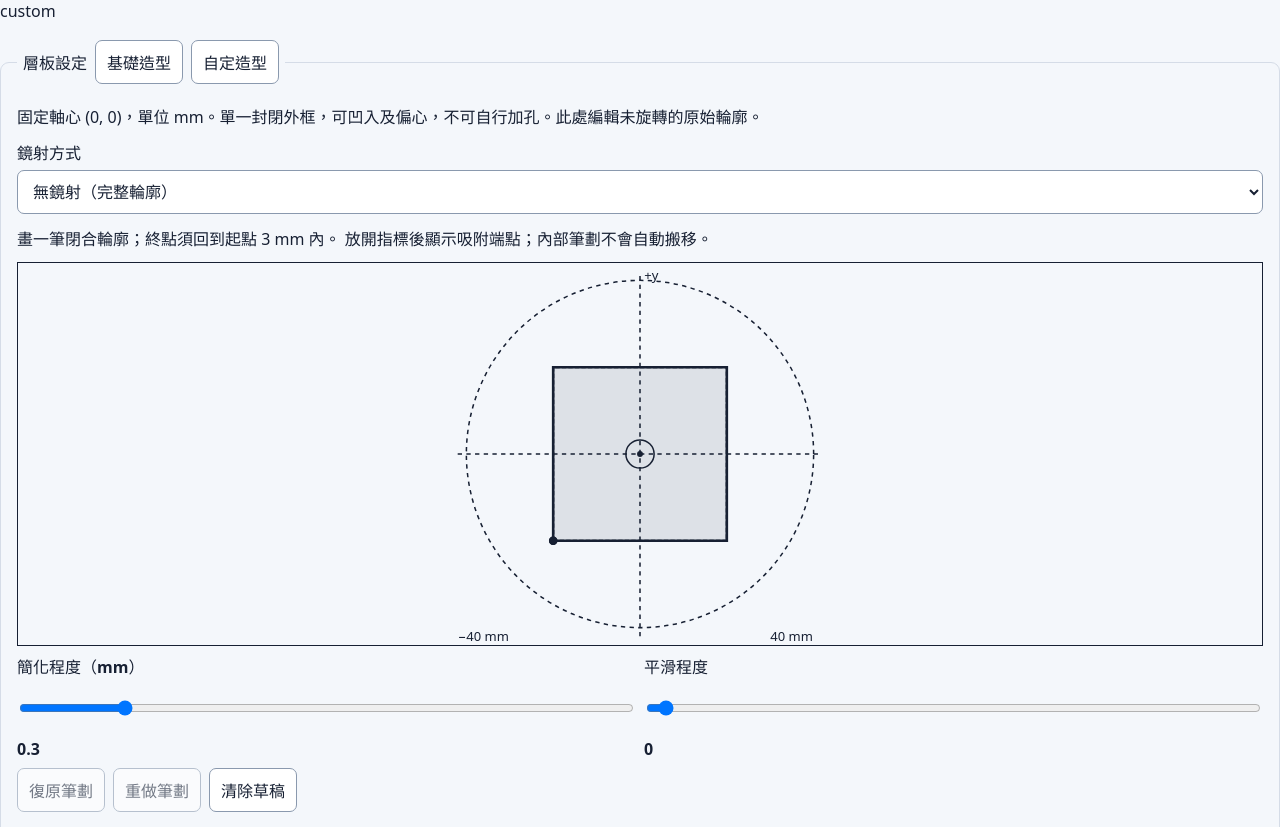
Test case: 輪廓編輯器 › 基礎草稿可保存及明確套用，原自定草稿仍可取回
This screenshot has width=1280, height=827.
Click the button "基礎造型".
click(139, 62)  # box [95,40,183,84]
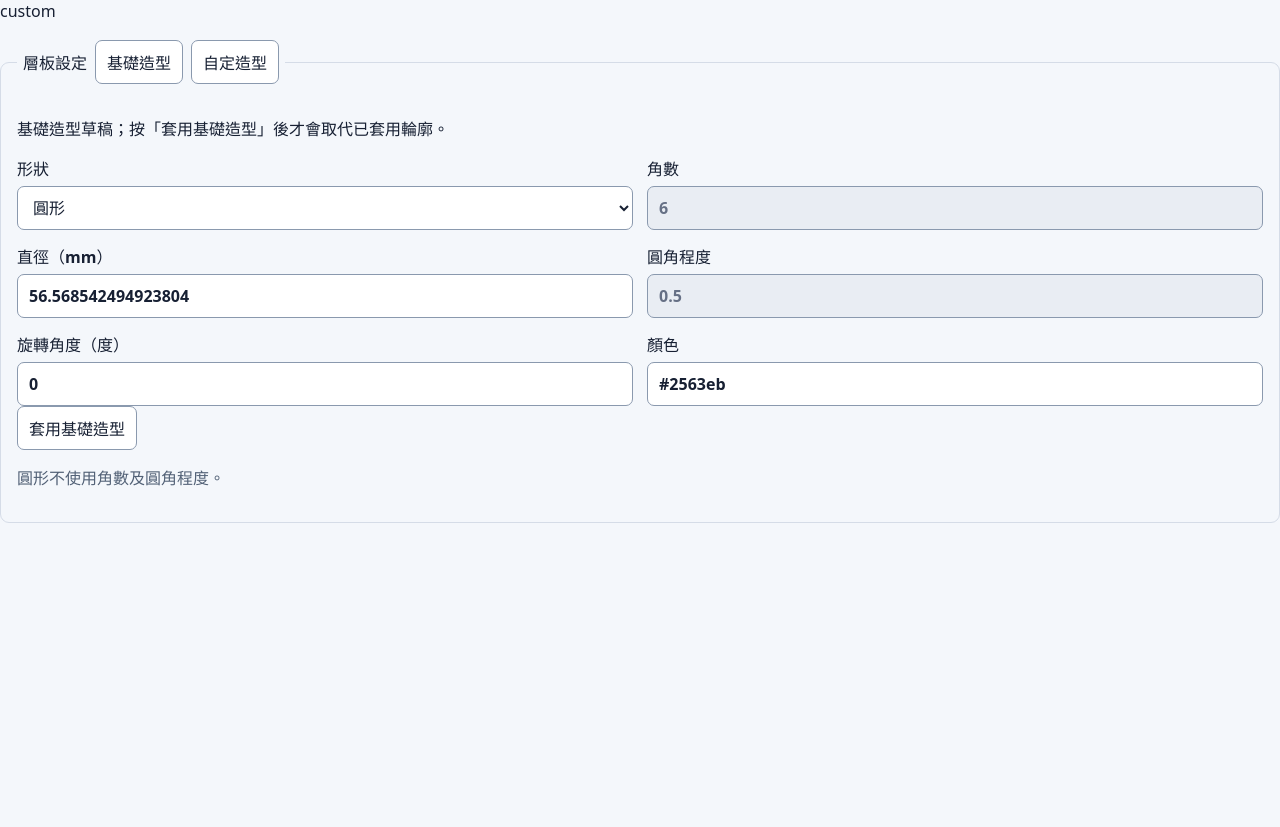
Select "星形" in the dropdown labelled "形狀" at (325, 208), box [17,186,633,230]
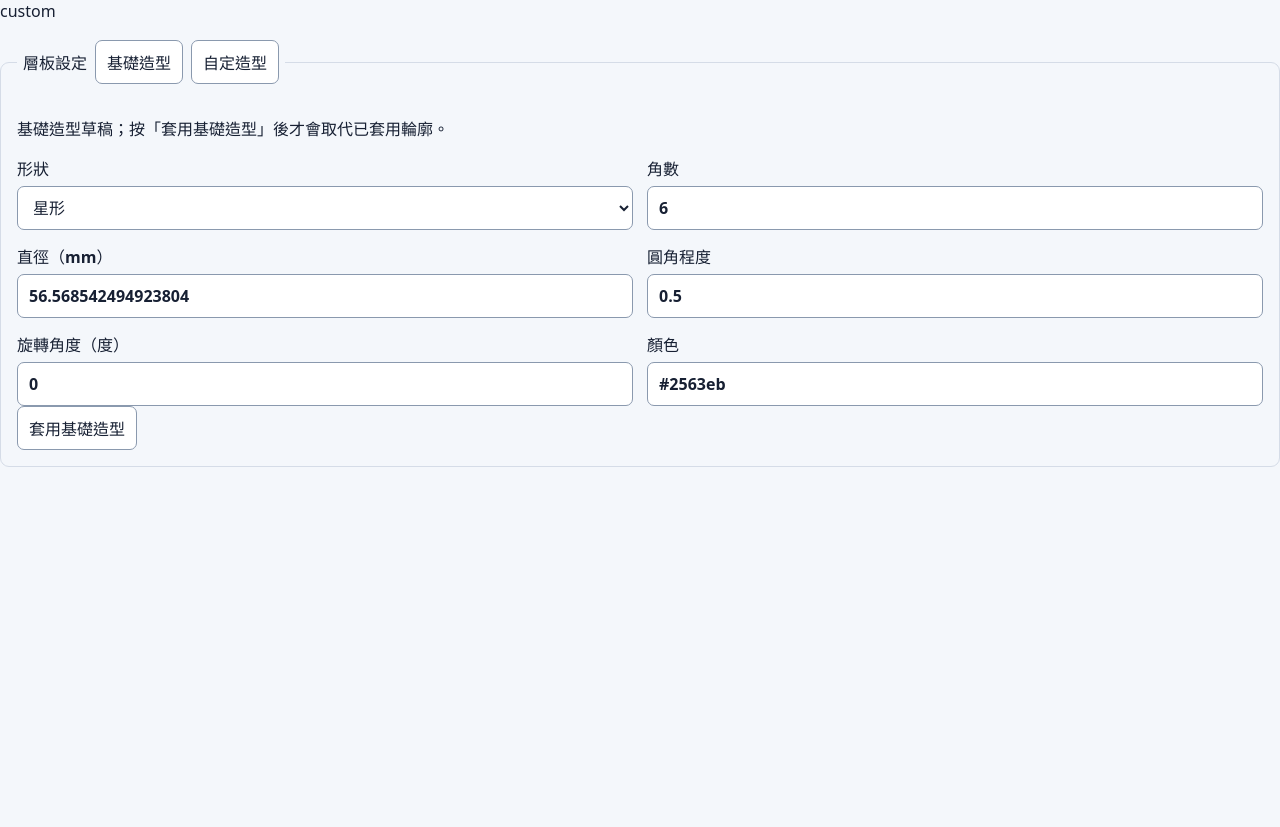
Expected: the text named "已套用造型" reads "custom", [0,0,56,22]
Click the button "自定造型".
click(235, 62)  # box [191,40,279,84]
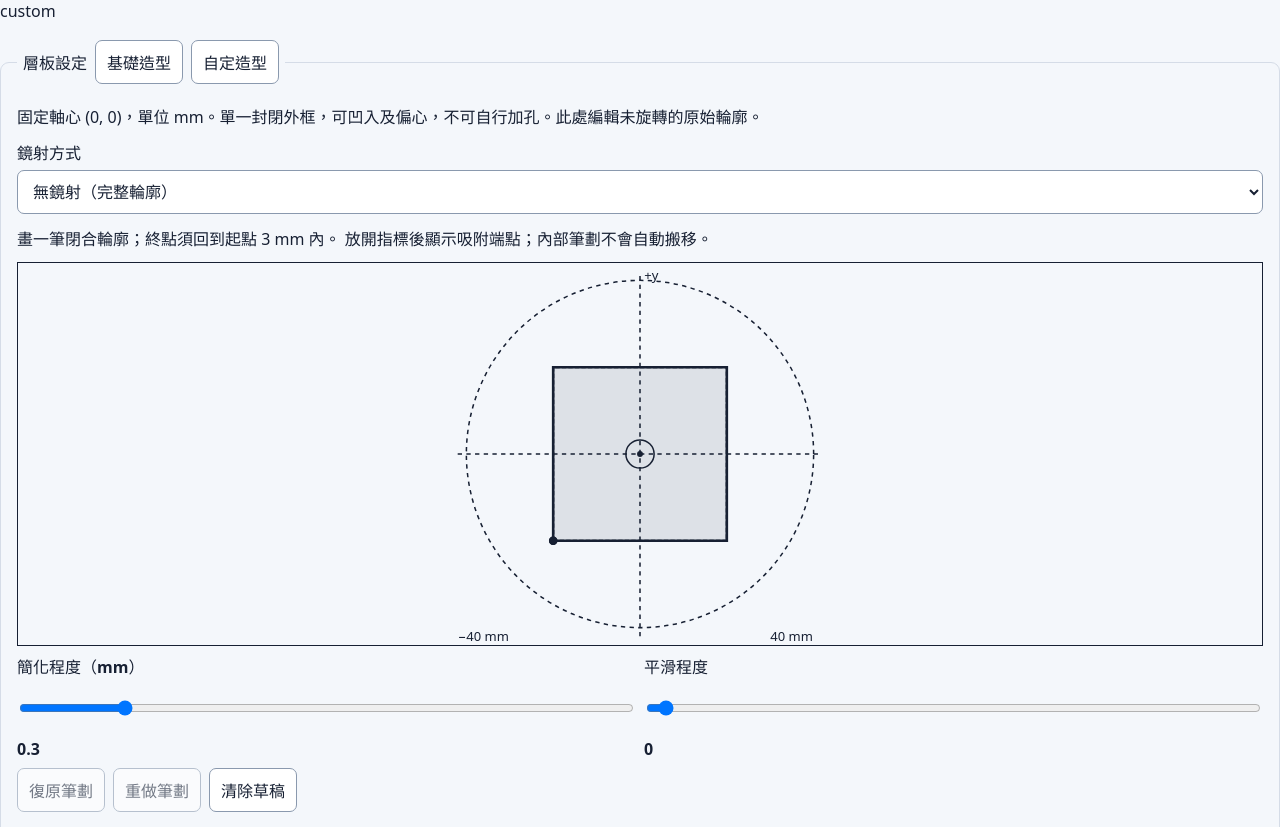
Click the button "基礎造型".
click(139, 62)  # box [95,40,183,84]
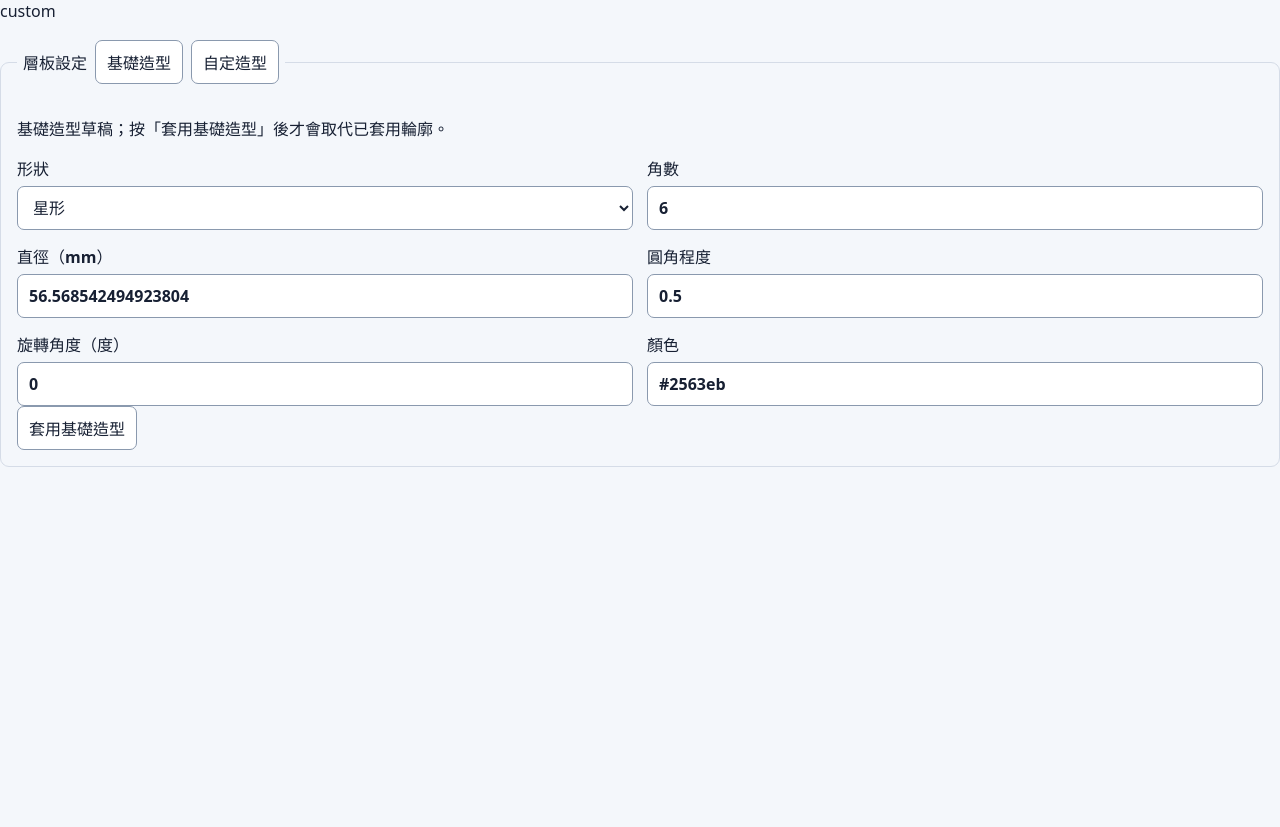
Result: the dropdown labelled "形狀" shows "星形" at [17,186,633,230]
Click the button "套用基礎造型".
click(77, 428)  # box [17,406,137,450]
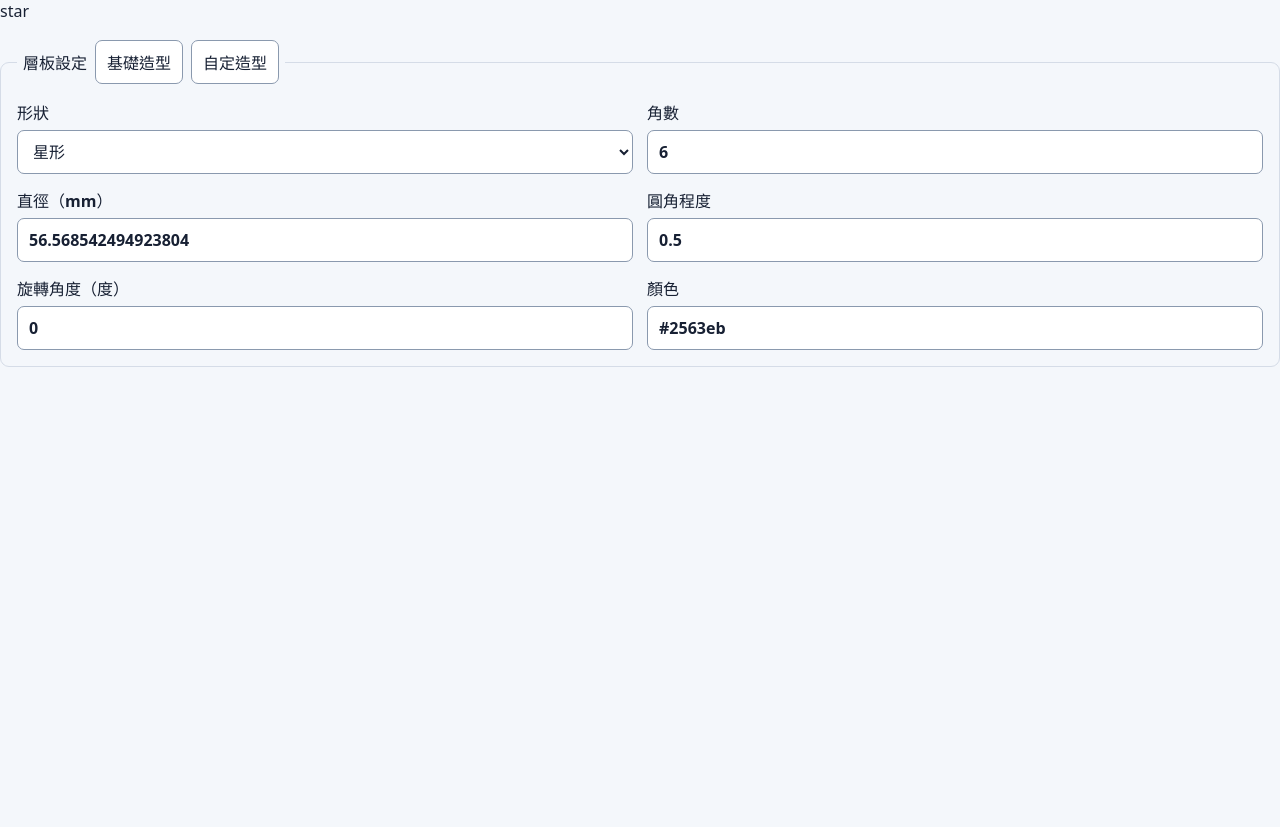
Result: the text named "已套用造型" reads "star" at [0,0,29,22]
Click the button "自定造型".
click(235, 62)  # box [191,40,279,84]
(page scrolled)
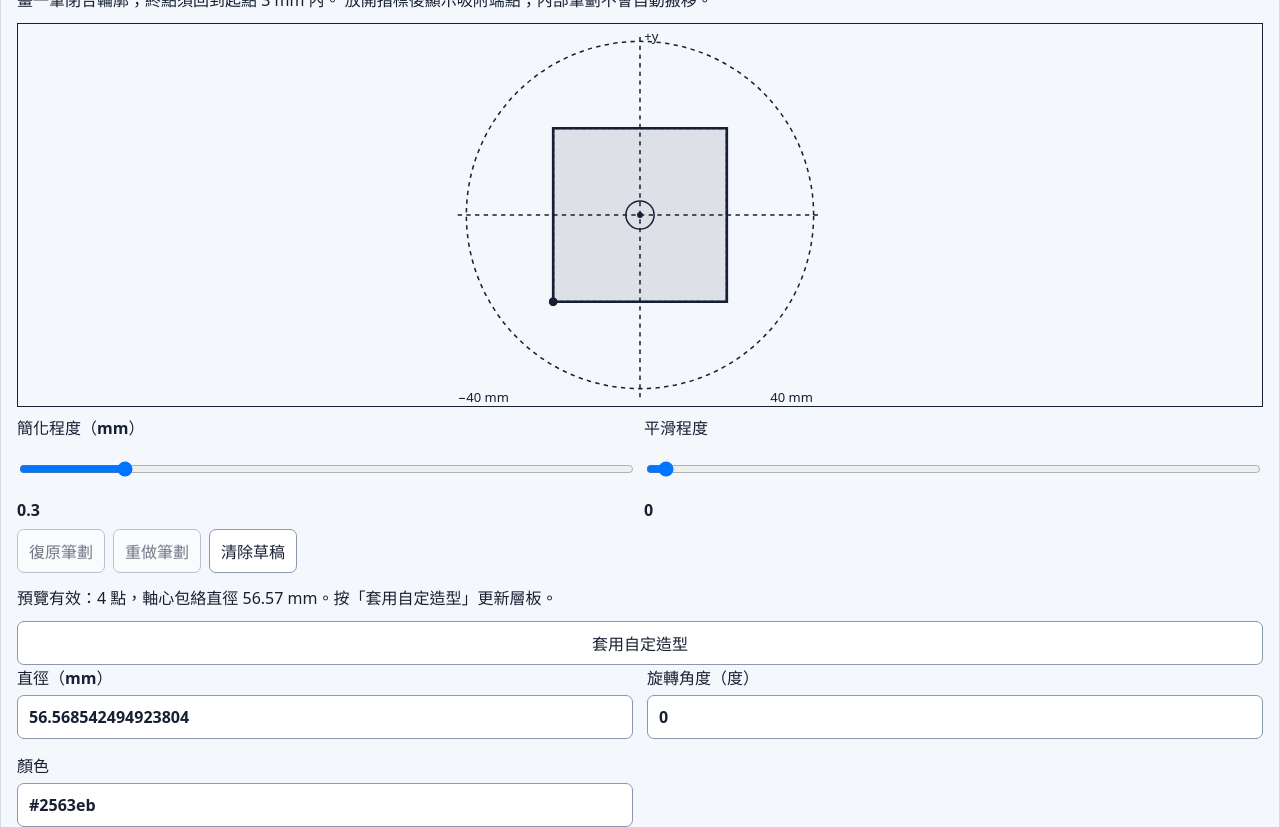
Result: the button "套用自定造型" is enabled at [17,621,1263,665]
